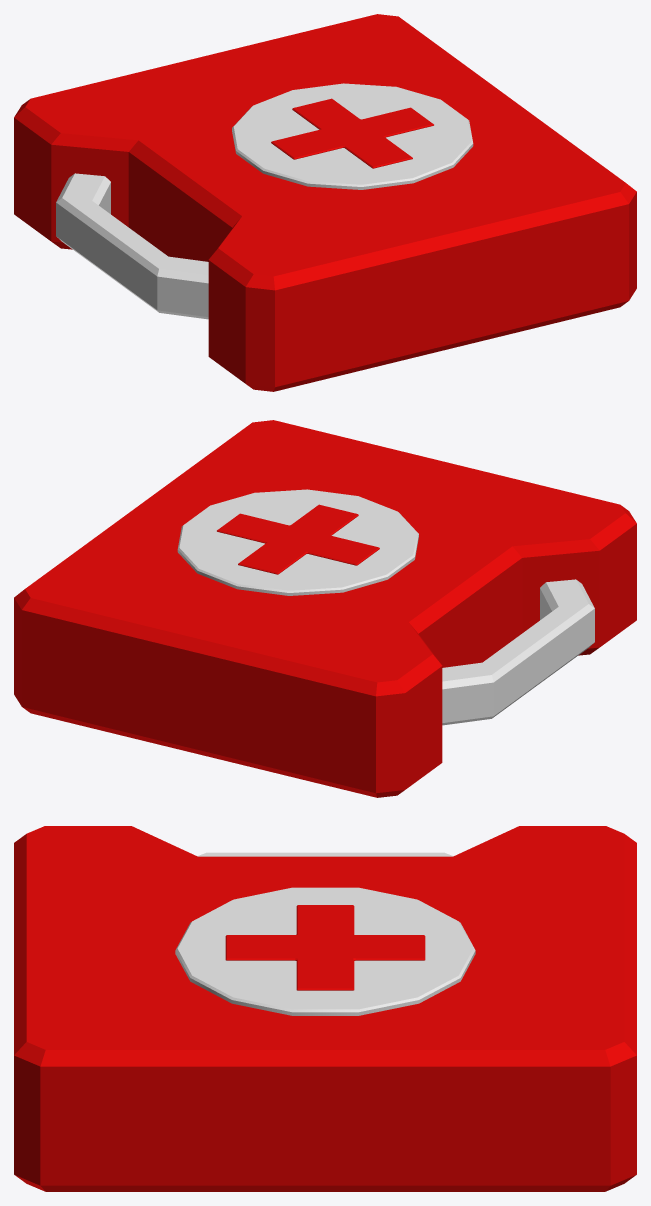
Rendered from LP_Medkit.fbx.
3 renders of one model, top to bottom at view 1: azimuth 30°, elevation 25°; view 2: azimuth 150°, elevation 25°; view 3: azimuth 270°, elevation 25°, orthographic. The views are drawn at different scales.
Parts seen in each view (by area): view 1: Msh_LP-Medkit; view 2: Msh_LP-Medkit; view 3: Msh_LP-Medkit.
Boxes of the visible parts, x1,y1,x2,y2 form: Msh_LP-Medkit: (14, 14, 636, 391); Msh_LP-Medkit: (14, 420, 636, 797); Msh_LP-Medkit: (14, 826, 636, 1191).
Size of the model in its own units: 150 by 42.06 by 159.
